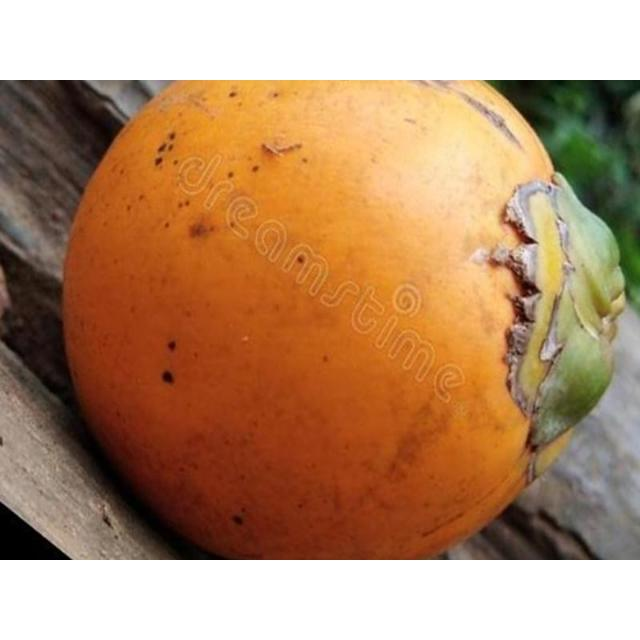good: (61, 80, 628, 559)
